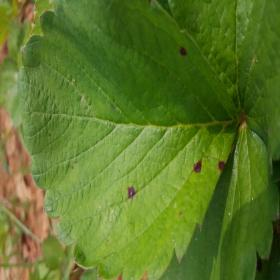Leaf Spot: (17, 0, 242, 279)
